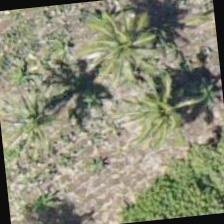Kelapa_Sawit: (129, 63, 223, 163), (78, 0, 178, 91), (0, 75, 83, 174)
